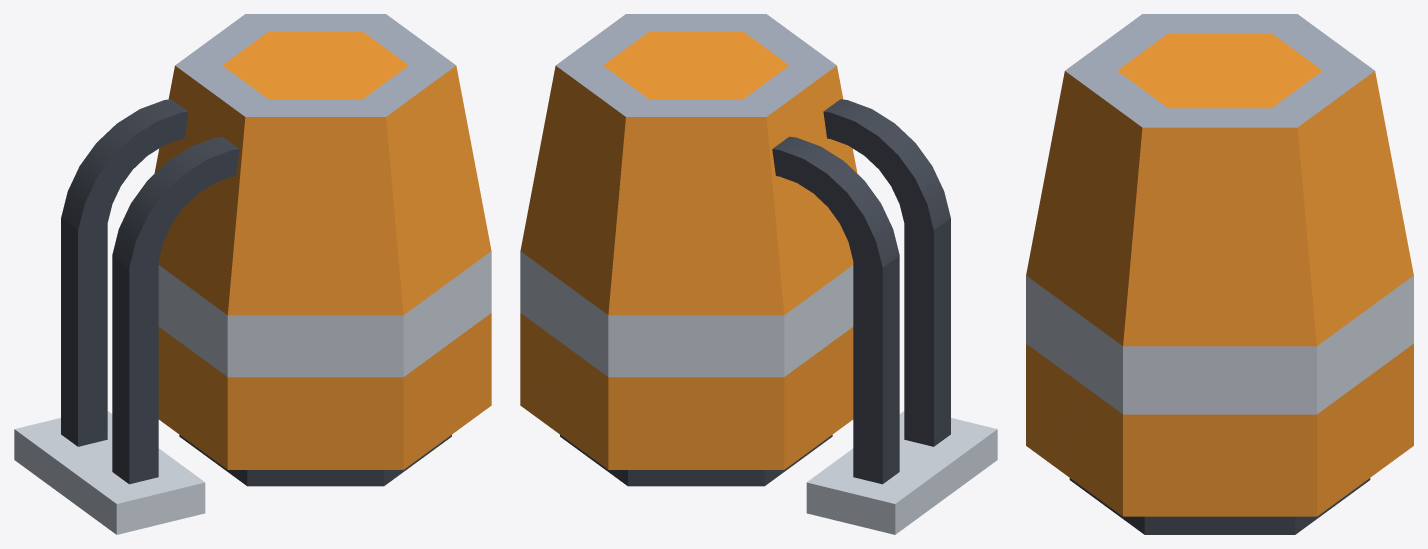
The model's file is machine_barrel.obj.
3 renders of one model, left to right at view 1: azimuth 30°, elevation 25°; view 2: azimuth 150°, elevation 25°; view 3: azimuth 270°, elevation 25°, orthographic. The views are drawn at different scales.
Visible parts, largest first — view 1: machine_barrel, cables; view 2: machine_barrel, cables; view 3: machine_barrel.
Part boxes in pixels (x1=…): machine_barrel: x1=154, y1=14, x2=491, y2=486; cables: x1=14, y1=99, x2=239, y2=534; machine_barrel: x1=520, y1=14, x2=857, y2=486; cables: x1=772, y1=99, x2=997, y2=534; machine_barrel: x1=1026, y1=14, x2=1413, y2=534.
Size of the model in its own units: 0.6464 by 0.6 by 0.5155.
